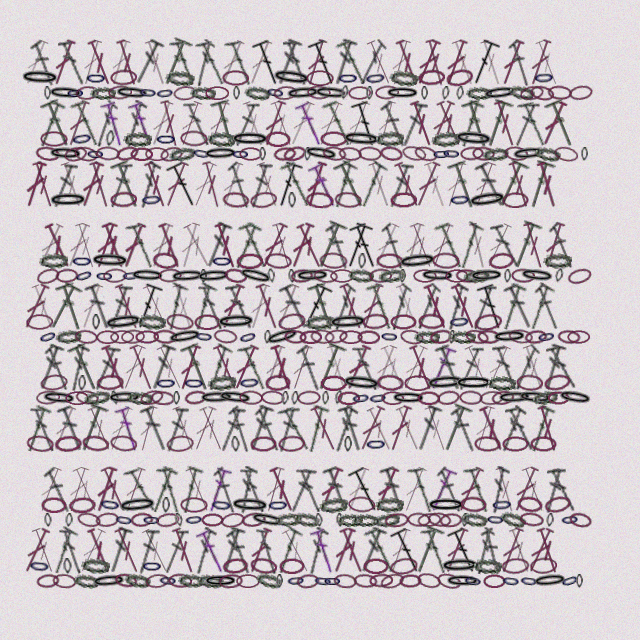chain: (271, 67, 312, 88), (467, 189, 508, 210), (264, 325, 301, 348), (397, 251, 438, 271), (103, 312, 144, 332), (341, 373, 382, 393), (117, 495, 158, 515), (237, 265, 274, 287), (453, 129, 494, 148), (425, 373, 466, 392), (249, 510, 286, 530), (341, 130, 382, 148), (328, 313, 368, 331), (230, 496, 270, 514), (303, 144, 339, 163), (167, 327, 203, 346), (557, 388, 593, 407), (20, 69, 60, 86), (90, 252, 130, 269), (216, 313, 256, 330), (440, 557, 480, 574), (482, 84, 518, 102), (230, 131, 270, 147), (48, 192, 88, 208), (454, 375, 494, 391), (426, 497, 466, 513), (277, 311, 307, 332), (543, 494, 573, 515), (304, 312, 335, 332), (318, 495, 349, 515), (511, 145, 547, 162), (519, 267, 555, 284), (217, 389, 253, 406), (517, 389, 553, 406), (532, 572, 568, 589), (445, 67, 474, 88), (543, 372, 572, 393), (165, 312, 195, 332), (473, 312, 503, 332), (389, 556, 419, 576), (499, 509, 527, 530), (249, 190, 278, 210), (249, 556, 278, 576), (114, 85, 150, 101), (285, 85, 321, 101), (313, 85, 349, 101), (41, 390, 77, 406), (91, 573, 127, 589), (207, 373, 237, 392), (48, 85, 83, 101), (170, 268, 205, 284), (196, 268, 231, 284), (81, 434, 110, 453), (109, 434, 138, 453), (165, 69, 195, 87), (389, 69, 419, 87), (431, 130, 461, 148), (566, 266, 593, 286), (379, 571, 406, 591), (40, 373, 68, 392), (83, 388, 111, 407), (531, 388, 559, 407), (26, 434, 54, 453), (166, 434, 194, 453), (516, 495, 544, 514), (255, 571, 283, 590), (48, 146, 83, 161), (203, 146, 238, 161), (130, 268, 165, 283), (295, 268, 330, 283), (420, 268, 455, 283), (469, 268, 504, 283), (492, 329, 527, 344), (107, 390, 142, 405), (199, 390, 234, 405), (497, 390, 532, 405), (305, 191, 334, 209), (501, 557, 530, 575), (413, 144, 439, 164), (35, 266, 61, 286), (436, 571, 462, 591), (152, 251, 179, 270), (488, 251, 515, 270), (168, 145, 196, 163), (222, 191, 250, 209), (334, 191, 362, 209), (264, 252, 292, 270), (68, 496, 96, 514), (373, 511, 401, 529), (401, 144, 427, 163), (139, 388, 165, 407), (416, 571, 442, 590), (375, 130, 404, 147), (39, 252, 68, 269), (319, 252, 348, 269), (543, 252, 572, 269), (137, 313, 166, 330), (375, 496, 404, 513), (81, 557, 110, 574), (385, 86, 420, 100), (391, 391, 426, 405), (203, 574, 238, 588), (445, 574, 480, 588), (534, 145, 561, 163), (222, 557, 249, 575), (180, 130, 208, 147), (432, 252, 460, 269), (96, 374, 124, 391), (376, 374, 404, 391), (54, 435, 82, 452), (115, 144, 140, 163), (282, 144, 307, 163), (519, 84, 545, 102), (529, 84, 555, 102), (73, 145, 99, 163), (553, 145, 579, 163), (399, 328, 425, 346), (464, 328, 490, 346), (76, 511, 102, 529), (155, 511, 181, 529), (220, 511, 246, 529), (123, 131, 152, 147), (207, 131, 236, 147), (487, 375, 516, 391), (473, 558, 502, 574), (110, 69, 137, 86), (418, 69, 445, 86), (508, 84, 535, 101), (110, 191, 137, 208), (378, 267, 405, 284), (362, 313, 389, 330), (418, 313, 445, 330), (55, 328, 82, 345), (516, 374, 543, 391), (278, 435, 305, 452), (348, 496, 375, 513), (460, 496, 487, 513), (275, 511, 302, 528), (293, 511, 320, 528), (461, 511, 488, 528), (530, 557, 557, 574), (124, 572, 151, 589), (70, 129, 94, 148), (98, 495, 122, 514), (63, 145, 88, 163), (159, 145, 184, 163), (568, 511, 593, 529), (306, 70, 334, 86), (40, 131, 68, 147), (404, 375, 432, 391), (180, 497, 208, 513), (568, 84, 594, 101), (265, 374, 291, 391), (222, 70, 249, 86), (244, 85, 271, 101), (320, 131, 347, 147), (482, 146, 509, 162), (390, 192, 417, 208), (502, 192, 529, 208), (236, 253, 263, 269), (376, 253, 403, 269), (463, 268, 490, 284), (26, 314, 53, 330), (194, 314, 221, 330), (390, 314, 417, 330), (320, 375, 347, 391), (250, 436, 277, 452), (474, 436, 501, 452), (502, 436, 529, 452), (530, 436, 557, 452), (73, 573, 100, 589), (197, 573, 224, 589), (35, 145, 60, 162), (322, 145, 347, 162), (379, 145, 404, 162), (504, 145, 529, 162), (223, 267, 248, 284), (213, 328, 238, 345), (508, 328, 533, 345), (436, 389, 461, 406), (95, 511, 120, 528), (241, 511, 266, 528), (427, 511, 452, 528), (519, 511, 544, 528), (73, 266, 95, 285), (37, 327, 59, 346), (559, 571, 581, 590), (265, 131, 291, 147), (41, 497, 67, 513), (279, 558, 305, 574), (363, 558, 389, 574), (364, 69, 387, 87), (210, 496, 233, 514), (28, 557, 51, 575), (324, 328, 348, 345), (429, 328, 453, 345), (75, 389, 99, 406), (184, 389, 208, 406), (491, 389, 515, 406), (114, 572, 138, 589), (173, 85, 198, 101), (273, 85, 298, 101), (313, 268, 338, 284), (150, 390, 175, 406), (479, 390, 504, 406), (384, 512, 409, 528), (417, 512, 442, 528), (52, 573, 77, 589), (145, 573, 170, 589), (218, 573, 243, 589), (353, 573, 378, 589), (237, 328, 259, 346), (140, 191, 163, 208), (448, 313, 471, 330), (238, 374, 261, 391), (348, 268, 374, 283), (178, 573, 204, 588), (75, 85, 99, 101), (273, 146, 297, 162), (338, 146, 362, 162), (290, 268, 314, 284), (455, 268, 479, 284), (74, 329, 98, 345), (524, 329, 548, 345), (557, 329, 581, 345), (439, 512, 463, 528), (36, 573, 60, 589), (296, 573, 320, 589), (333, 573, 357, 589), (547, 85, 572, 100), (310, 329, 335, 344), (533, 69, 555, 86), (449, 191, 471, 208), (491, 496, 513, 513), (90, 86, 116, 100), (190, 86, 216, 100), (466, 86, 492, 100), (414, 330, 440, 344), (450, 330, 476, 344), (127, 391, 153, 405), (337, 513, 363, 527), (352, 513, 378, 527), (108, 85, 132, 100), (307, 85, 331, 100), (375, 85, 399, 100), (96, 146, 120, 161), (358, 146, 382, 161), (460, 146, 484, 161), (55, 268, 79, 283), (103, 268, 127, 283), (158, 268, 182, 283), (511, 268, 535, 283), (121, 329, 145, 344), (153, 329, 177, 344), (36, 390, 60, 405), (239, 390, 263, 405), (261, 390, 285, 405), (297, 390, 321, 405), (459, 390, 483, 405), (130, 512, 154, 527), (407, 512, 431, 527), (168, 573, 192, 588), (369, 573, 393, 588), (265, 84, 286, 101), (191, 145, 212, 162), (536, 328, 557, 345), (85, 70, 107, 86), (337, 70, 359, 86), (155, 131, 177, 147), (71, 253, 93, 269), (211, 253, 233, 269), (155, 375, 177, 391), (183, 375, 205, 391), (365, 436, 387, 452), (267, 497, 289, 513), (141, 558, 163, 574), (472, 146, 495, 161), (369, 268, 392, 283), (477, 329, 500, 344), (205, 86, 229, 100), (145, 147, 169, 161), (330, 269, 354, 283), (413, 269, 437, 283), (445, 269, 469, 283), (110, 330, 134, 344), (135, 330, 159, 344), (339, 330, 363, 344), (65, 391, 89, 405), (236, 574, 260, 588), (348, 86, 371, 100), (130, 147, 153, 161), (239, 147, 262, 161), (96, 330, 119, 344), (284, 330, 307, 344), (299, 330, 322, 344), (357, 330, 380, 344), (567, 330, 590, 344), (337, 391, 360, 405), (381, 391, 404, 405), (417, 391, 440, 405), (547, 391, 570, 405), (201, 513, 224, 527), (399, 574, 422, 588), (483, 574, 506, 588), (155, 85, 175, 101), (351, 390, 371, 406), (368, 390, 388, 406), (114, 512, 134, 528), (313, 573, 333, 589), (463, 573, 483, 589), (501, 573, 521, 589), (519, 573, 539, 589), (138, 85, 158, 100), (121, 268, 141, 283), (194, 329, 214, 344), (184, 512, 204, 527), (560, 512, 580, 527), (158, 573, 178, 588), (286, 573, 306, 588), (442, 146, 461, 161), (380, 329, 399, 344), (486, 512, 505, 527), (66, 86, 85, 100), (86, 147, 105, 161), (231, 147, 250, 161), (432, 147, 451, 161), (95, 269, 114, 283), (142, 513, 161, 527), (323, 574, 342, 588), (105, 130, 115, 147), (554, 268, 564, 283), (110, 390, 120, 405), (174, 512, 184, 527), (231, 436, 240, 452), (63, 558, 72, 574), (340, 85, 349, 100), (267, 268, 276, 283), (334, 390, 343, 405), (288, 192, 296, 208), (358, 253, 366, 269), (92, 314, 100, 330), (78, 375, 86, 391), (344, 436, 352, 452), (162, 497, 170, 513), (441, 86, 450, 100), (456, 86, 464, 100), (288, 269, 296, 283), (448, 330, 456, 344), (281, 391, 289, 405), (291, 391, 299, 405), (44, 513, 52, 527), (65, 513, 73, 527), (315, 513, 323, 527), (336, 513, 344, 527), (461, 513, 469, 527), (546, 513, 554, 527), (44, 86, 51, 100), (233, 86, 240, 100), (366, 86, 373, 100), (421, 86, 428, 100), (259, 147, 266, 161), (304, 147, 311, 161), (581, 147, 588, 161), (200, 269, 207, 283), (399, 269, 406, 283), (504, 269, 511, 283), (264, 330, 271, 344), (173, 391, 180, 405), (322, 391, 329, 405), (276, 574, 283, 588), (576, 574, 583, 588)
double: (44, 282, 83, 332), (333, 159, 370, 210), (493, 159, 530, 210), (67, 342, 104, 393), (165, 160, 202, 210), (297, 282, 334, 332), (347, 465, 384, 515), (389, 526, 426, 576), (40, 98, 76, 149), (544, 98, 580, 149), (312, 220, 348, 271), (277, 404, 314, 453), (123, 465, 160, 514), (446, 526, 482, 576), (158, 37, 193, 88), (110, 159, 145, 210), (508, 220, 543, 271), (180, 342, 215, 393), (312, 342, 347, 393), (438, 403, 473, 454), (410, 525, 445, 576), (348, 221, 383, 271), (75, 403, 109, 454), (278, 527, 314, 575), (474, 160, 509, 209), (180, 221, 215, 270), (228, 221, 263, 270), (278, 282, 313, 331), (74, 526, 109, 575), (138, 526, 173, 575), (251, 38, 285, 88), (307, 38, 341, 88), (467, 38, 501, 88), (447, 160, 481, 210), (131, 38, 165, 87), (195, 38, 229, 87), (335, 38, 369, 87), (279, 160, 313, 209), (355, 160, 389, 209), (33, 221, 67, 270), (41, 221, 75, 270), (257, 221, 291, 270), (369, 221, 403, 270), (481, 221, 515, 270), (139, 282, 173, 331), (503, 282, 537, 331), (153, 343, 187, 392), (397, 343, 431, 392), (307, 404, 341, 453), (97, 465, 131, 514), (145, 465, 179, 514), (453, 465, 487, 514), (19, 526, 53, 575), (363, 526, 397, 575), (523, 526, 557, 575), (461, 99, 494, 149), (481, 99, 514, 149), (341, 221, 374, 271), (55, 282, 88, 332), (131, 282, 164, 332), (307, 282, 340, 332), (363, 38, 396, 87), (33, 99, 66, 148), (69, 99, 102, 148), (285, 99, 318, 148), (313, 99, 346, 148), (321, 99, 354, 148), (433, 99, 466, 148), (517, 99, 550, 148), (391, 160, 424, 209), (411, 160, 444, 209), (125, 221, 158, 270), (237, 221, 270, 270), (433, 221, 466, 270), (19, 282, 52, 331), (229, 343, 262, 392), (237, 343, 270, 392), (341, 343, 374, 392), (377, 343, 410, 392), (461, 343, 494, 392), (481, 343, 514, 392), (139, 404, 172, 453), (355, 404, 388, 453), (69, 465, 102, 514), (509, 465, 542, 514), (111, 526, 144, 575), (350, 99, 382, 149), (272, 160, 304, 210), (524, 160, 556, 210), (476, 282, 508, 332), (307, 161, 340, 209), (293, 222, 326, 270), (363, 405, 396, 453), (195, 527, 228, 575), (20, 38, 52, 87), (84, 38, 116, 87), (216, 38, 248, 87), (224, 38, 256, 87), (244, 38, 276, 87), (412, 38, 444, 87), (294, 99, 326, 148), (426, 99, 458, 148), (538, 99, 570, 148), (160, 160, 192, 209), (188, 160, 220, 209), (62, 221, 94, 270), (392, 282, 424, 331), (420, 282, 452, 331), (448, 282, 480, 331), (524, 282, 556, 331), (98, 343, 130, 392), (126, 343, 158, 392), (202, 343, 234, 392), (210, 343, 242, 392), (434, 343, 466, 392), (20, 404, 52, 453), (48, 404, 80, 453), (56, 404, 88, 453), (84, 404, 116, 453), (104, 404, 136, 453), (188, 404, 220, 453), (196, 404, 228, 453), (392, 404, 424, 453), (476, 404, 508, 453), (524, 404, 556, 453), (182, 465, 214, 514), (266, 465, 298, 514), (314, 465, 346, 514), (370, 465, 402, 514), (398, 465, 430, 514), (426, 465, 458, 514), (272, 526, 304, 575), (336, 526, 368, 575), (356, 526, 388, 575), (440, 526, 472, 575), (210, 99, 241, 149), (42, 466, 74, 514), (392, 38, 423, 87), (448, 38, 479, 87), (532, 38, 563, 87), (146, 99, 177, 148), (342, 99, 373, 148), (454, 99, 485, 148), (76, 160, 107, 209), (328, 160, 359, 209), (420, 160, 451, 209), (98, 221, 129, 270), (118, 221, 149, 270), (146, 221, 177, 270), (202, 221, 233, 270), (286, 221, 317, 270), (406, 221, 437, 270), (454, 221, 485, 270), (28, 282, 59, 331), (76, 282, 107, 331), (84, 282, 115, 331), (112, 282, 143, 331), (252, 282, 283, 331), (272, 282, 303, 331), (336, 282, 367, 331), (496, 282, 527, 331), (118, 343, 149, 392), (370, 343, 401, 392), (406, 343, 437, 392), (426, 343, 457, 392), (34, 465, 65, 514), (322, 465, 353, 514), (342, 465, 373, 514), (518, 465, 549, 514), (28, 526, 59, 575), (48, 526, 79, 575), (84, 526, 115, 575), (244, 526, 275, 575), (420, 526, 451, 575), (496, 526, 527, 575), (356, 39, 388, 86), (546, 344, 578, 391), (490, 222, 521, 270), (496, 405, 527, 453), (141, 38, 171, 87), (169, 38, 199, 87), (273, 38, 303, 87), (441, 38, 471, 87), (497, 38, 527, 87), (525, 38, 555, 87), (63, 99, 93, 148), (127, 99, 157, 148), (175, 99, 205, 148), (203, 99, 233, 148), (239, 99, 269, 148), (259, 99, 289, 148), (267, 99, 297, 148), (407, 99, 437, 148), (57, 160, 87, 209), (141, 160, 171, 209), (217, 160, 247, 209), (253, 160, 283, 209), (365, 160, 395, 209), (469, 160, 499, 209), (91, 221, 121, 270), (155, 221, 185, 270), (211, 221, 241, 270), (427, 221, 457, 270), (217, 282, 247, 331), (357, 282, 387, 331), (365, 282, 395, 331), (35, 343, 65, 392), (147, 343, 177, 392), (259, 343, 289, 392), (267, 343, 297, 392), (519, 343, 549, 392), (169, 404, 199, 453), (245, 404, 275, 453), (337, 404, 367, 453), (385, 404, 415, 453), (413, 404, 443, 453), (421, 404, 451, 453), (119, 465, 149, 514), (379, 465, 409, 514), (407, 465, 437, 514), (463, 465, 493, 514), (169, 526, 199, 575), (329, 526, 359, 575), (505, 526, 535, 575), (533, 526, 563, 575), (379, 100, 409, 148), (91, 344, 121, 392), (329, 405, 359, 453), (449, 405, 479, 453), (505, 405, 535, 453), (287, 466, 317, 514), (547, 466, 577, 514), (49, 38, 78, 87), (113, 38, 142, 87), (477, 38, 506, 87), (491, 99, 520, 148), (21, 160, 50, 209), (29, 160, 58, 209), (441, 160, 470, 209), (505, 160, 534, 209), (71, 221, 100, 270), (169, 282, 198, 331), (189, 282, 218, 331), (245, 282, 274, 331), (175, 343, 204, 392), (287, 343, 316, 392), (323, 343, 352, 392), (301, 404, 330, 453), (63, 465, 92, 514), (91, 465, 120, 514), (175, 465, 204, 514), (105, 526, 134, 575), (309, 526, 338, 575), (385, 526, 414, 575), (547, 222, 577, 269), (511, 344, 541, 391), (253, 405, 283, 452), (435, 466, 465, 513), (29, 39, 58, 87), (399, 100, 428, 148), (225, 283, 254, 331), (295, 344, 324, 392), (217, 405, 246, 453), (225, 527, 254, 575), (106, 38, 134, 87), (302, 38, 330, 87), (330, 38, 358, 87), (386, 38, 414, 87), (86, 160, 114, 209), (302, 160, 330, 209), (176, 221, 204, 270), (268, 221, 296, 270), (400, 221, 428, 270), (520, 221, 548, 270), (540, 221, 568, 270), (114, 404, 142, 453), (470, 404, 498, 453), (534, 404, 562, 453), (156, 465, 184, 514), (204, 465, 232, 514), (260, 465, 288, 514), (218, 526, 246, 575), (183, 100, 212, 147), (413, 283, 442, 330), (533, 283, 562, 330), (43, 344, 72, 391), (58, 39, 86, 87), (120, 100, 148, 148), (232, 100, 260, 148), (512, 100, 540, 148), (50, 161, 78, 209), (134, 161, 162, 209), (386, 161, 414, 209), (324, 222, 352, 270), (352, 344, 380, 392), (456, 344, 484, 392), (78, 38, 105, 87), (422, 38, 449, 87), (100, 99, 127, 148), (534, 160, 561, 209), (162, 282, 189, 331), (540, 343, 567, 392), (134, 404, 161, 453), (492, 465, 519, 514), (92, 100, 119, 148), (226, 161, 253, 209), (380, 222, 407, 270), (106, 283, 133, 331), (198, 283, 225, 331), (330, 283, 357, 331), (442, 283, 469, 331), (470, 283, 497, 331), (492, 344, 519, 392), (30, 405, 57, 453), (212, 466, 239, 514), (240, 466, 267, 514), (296, 466, 323, 514), (162, 527, 189, 575), (190, 527, 217, 575), (157, 99, 183, 148), (373, 99, 399, 148), (199, 160, 225, 209), (465, 221, 491, 270), (507, 39, 533, 87), (107, 161, 133, 209), (247, 161, 273, 209), (387, 283, 413, 331), (163, 405, 189, 453), (227, 405, 253, 453), (303, 527, 329, 575), (283, 39, 308, 87), (65, 344, 90, 392), (275, 405, 300, 453), (59, 527, 84, 575), (135, 527, 160, 575), (192, 39, 216, 87), (234, 466, 258, 514), (486, 466, 510, 514), (542, 466, 566, 514), (472, 527, 496, 575), (480, 527, 504, 575), (256, 527, 279, 575)
